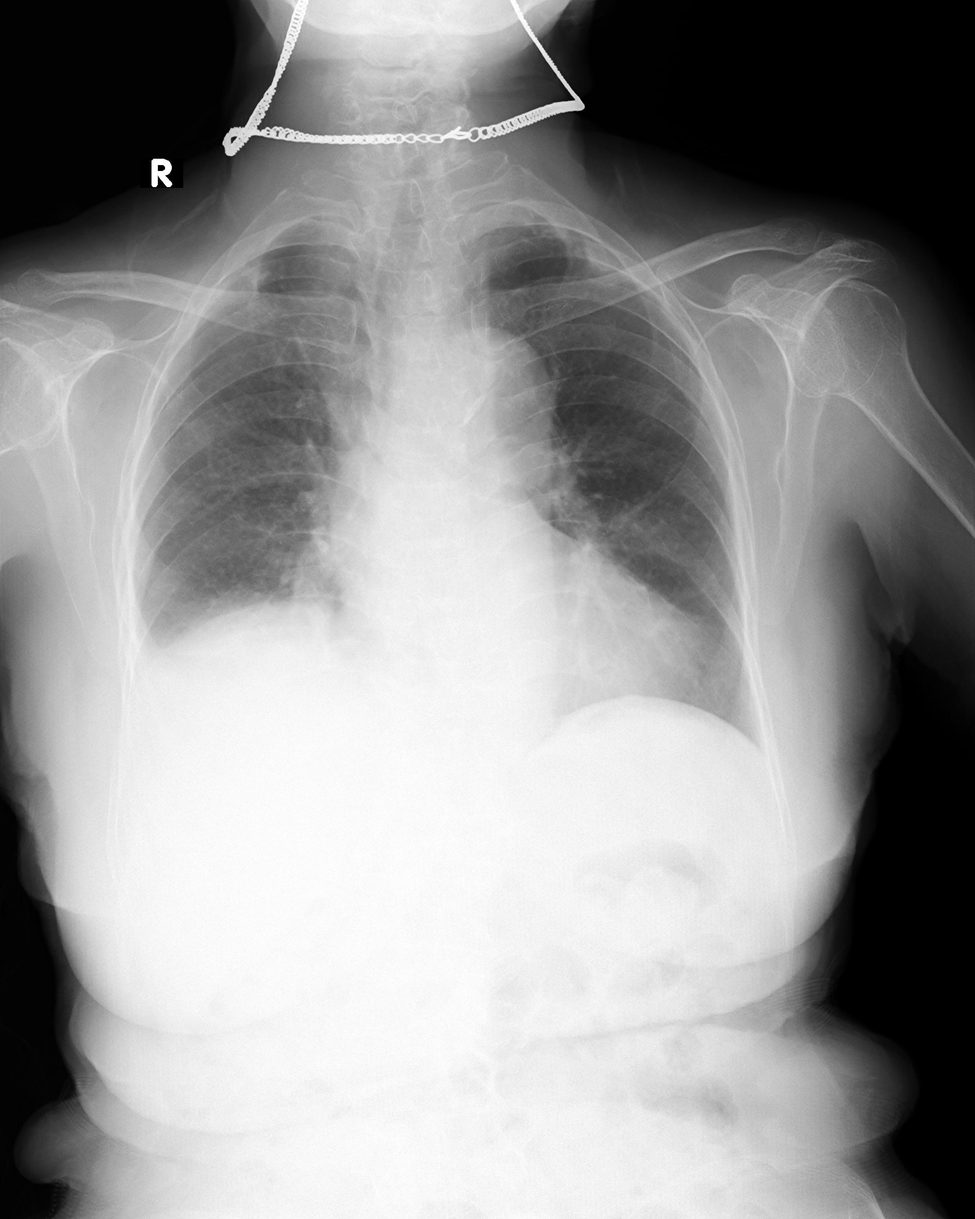Aortic enlargement: (438, 324, 556, 461)
Cardiomegaly: (334, 540, 702, 698)
